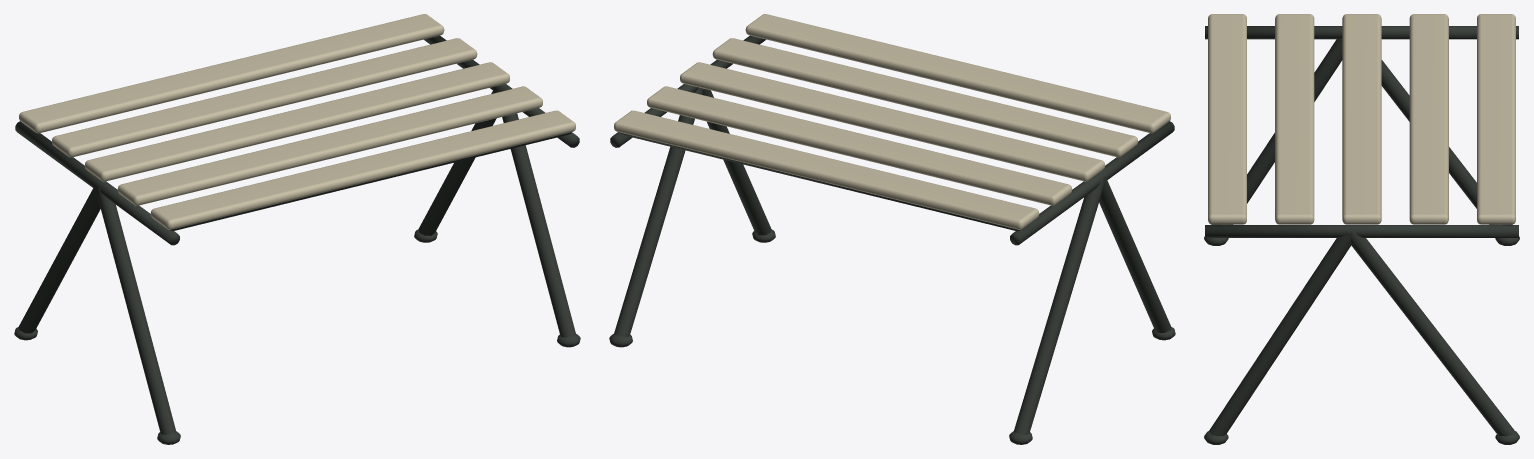
File: luggage-rack.glb
The picture shows the model from 3 angles, left to right: view 1: azimuth 30°, elevation 25°; view 2: azimuth 150°, elevation 25°; view 3: azimuth 270°, elevation 25°; orthographic projection.
Parts seen in each view (by area): view 1: luggage-rack__Old_cotton, luggage-rack__Oxidized_iron; view 2: luggage-rack__Old_cotton, luggage-rack__Oxidized_iron; view 3: luggage-rack__Old_cotton, luggage-rack__Oxidized_iron.
Boxes of the visible parts, box(x1,y1,x2,y2) form: luggage-rack__Old_cotton: box(19, 14, 575, 229); luggage-rack__Oxidized_iron: box(14, 35, 580, 444); luggage-rack__Old_cotton: box(614, 14, 1170, 229); luggage-rack__Oxidized_iron: box(609, 35, 1175, 444); luggage-rack__Old_cotton: box(1208, 14, 1515, 224); luggage-rack__Oxidized_iron: box(1204, 26, 1519, 444).
Bounding box in the file's own units: 0.8818 × 0.452 × 0.564.
